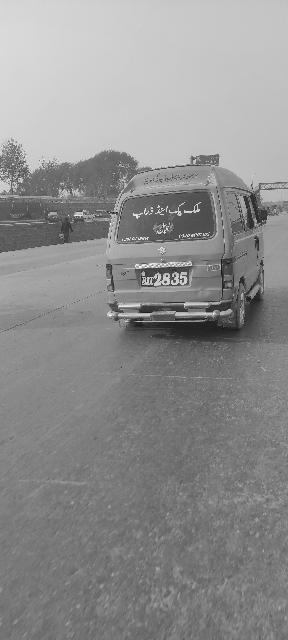Number: (140, 271, 188, 286)
